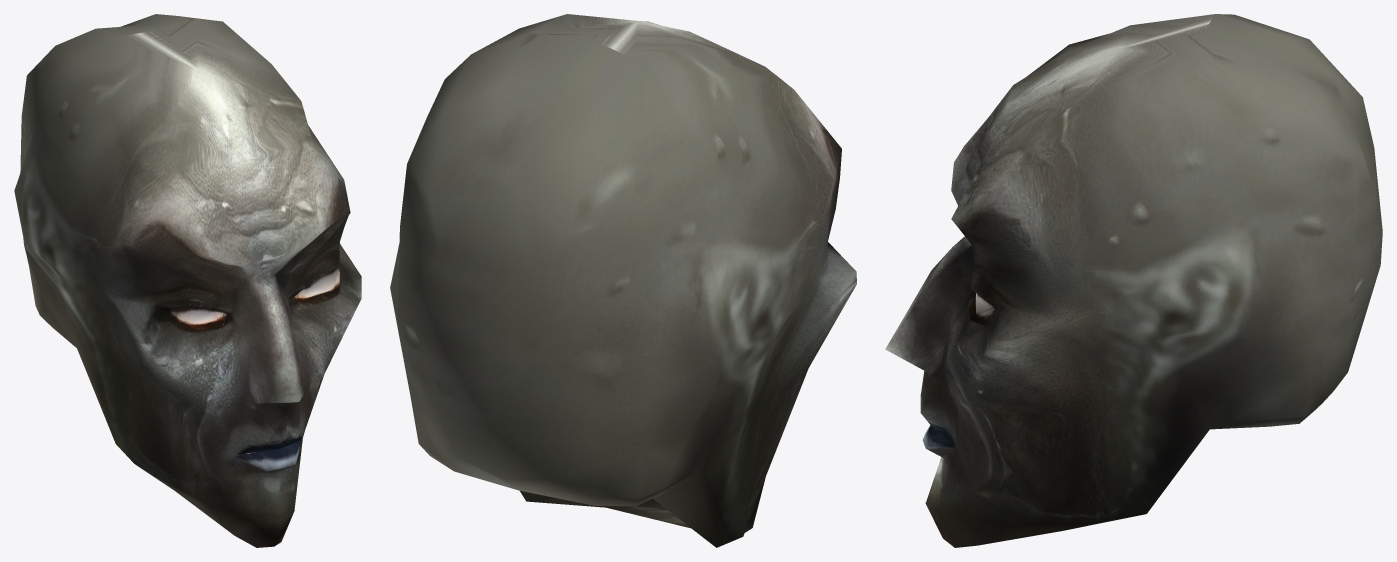
Rendered from b_v_dark elf_m_head_01.glb.
The picture shows the model from 3 angles, left to right: view 1: azimuth 30°, elevation 25°; view 2: azimuth 150°, elevation 25°; view 3: azimuth 270°, elevation 25°; orthographic projection. The views are drawn at different scales.
Parts seen in each view (by area): view 1: Tri B_V_Dark Elf_M_Head_01; view 2: Tri B_V_Dark Elf_M_Head_01; view 3: Tri B_V_Dark Elf_M_Head_01.
Part boxes in pixels (left/top/right/bottom): Tri B_V_Dark Elf_M_Head_01: left=14, top=14, right=361, bottom=547; Tri B_V_Dark Elf_M_Head_01: left=390, top=14, right=856, bottom=547; Tri B_V_Dark Elf_M_Head_01: left=885, top=14, right=1382, bottom=547.
Bounding box in the file's own units: 0.093 × 0.1601 × 0.1421.
Materials: 1 (1 with a texture image).
